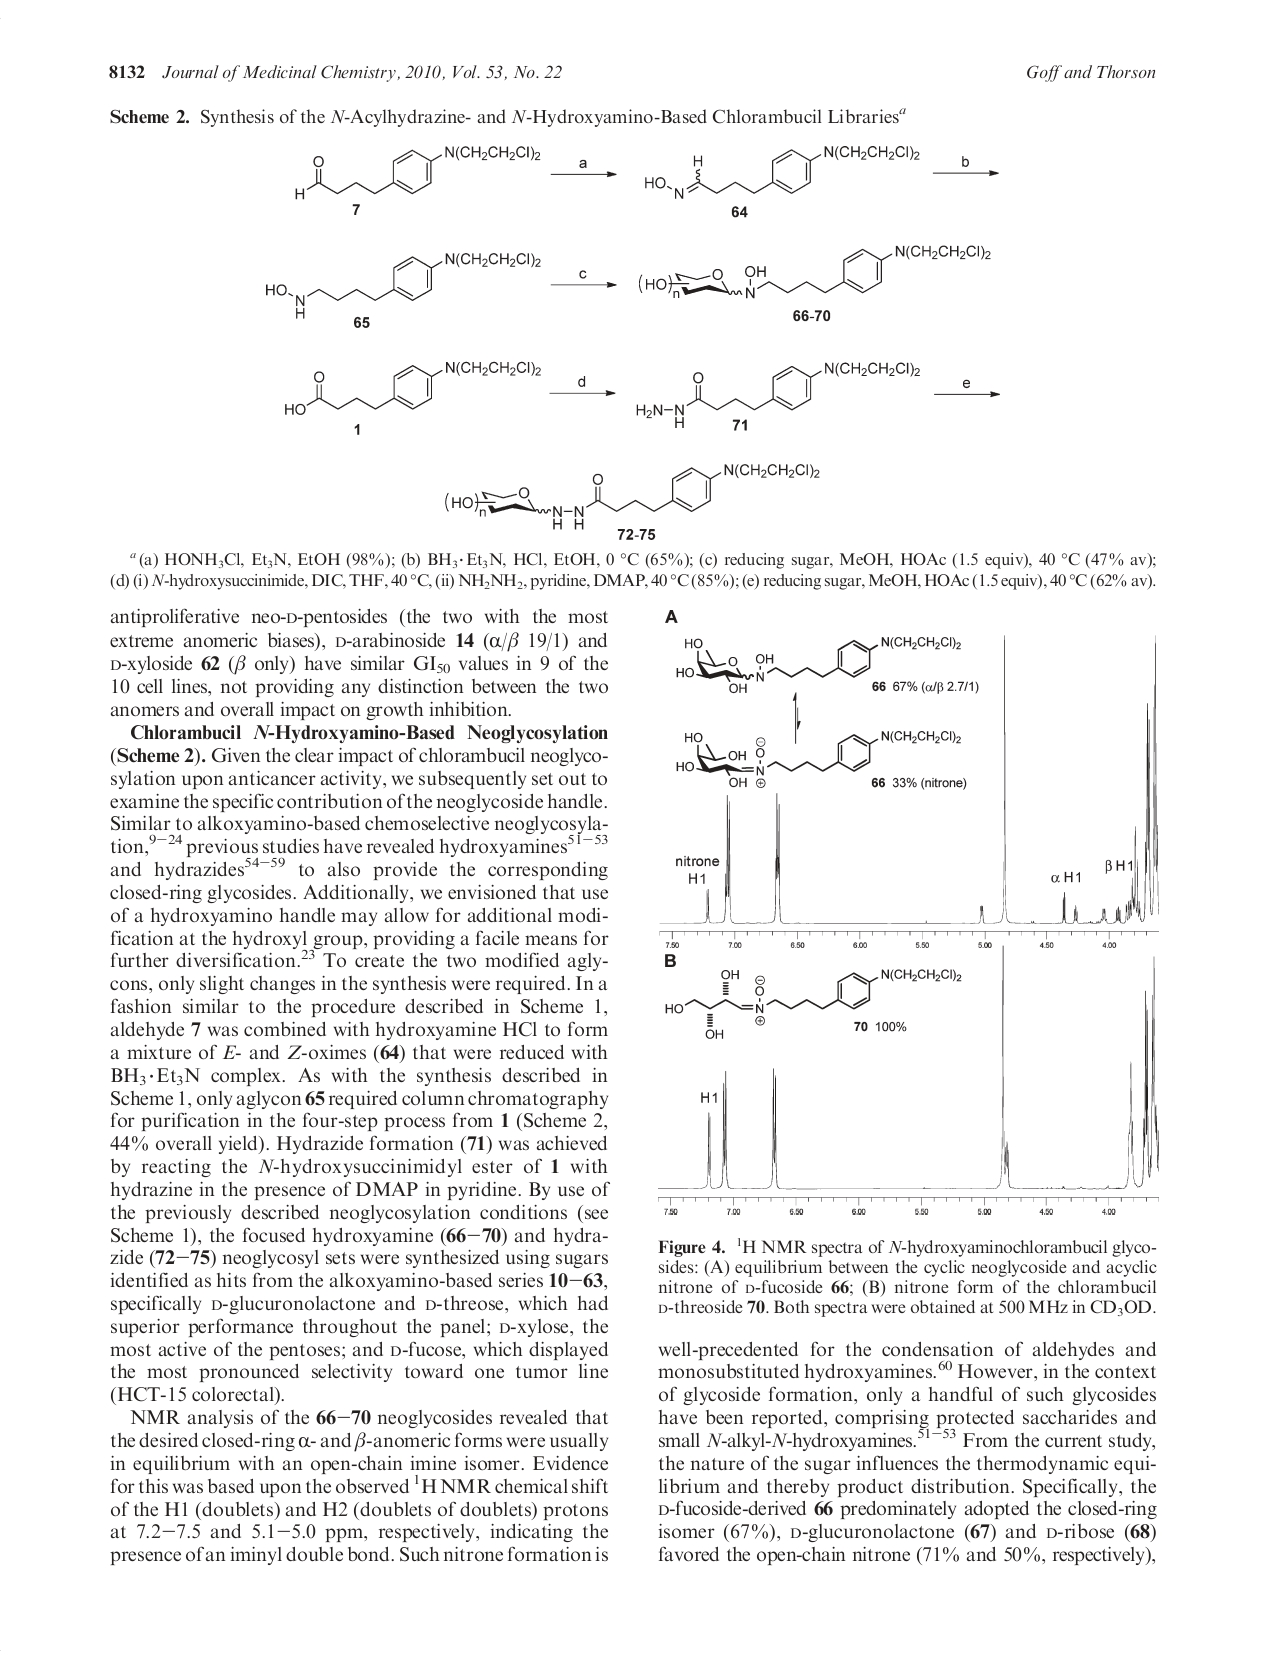exist_molecular: (442, 459, 821, 531), (664, 963, 967, 1043), (636, 239, 995, 301), (265, 247, 544, 322), (633, 358, 922, 430), (674, 632, 965, 696), (673, 726, 963, 789), (642, 141, 922, 202), (282, 354, 543, 418), (291, 144, 544, 203)
